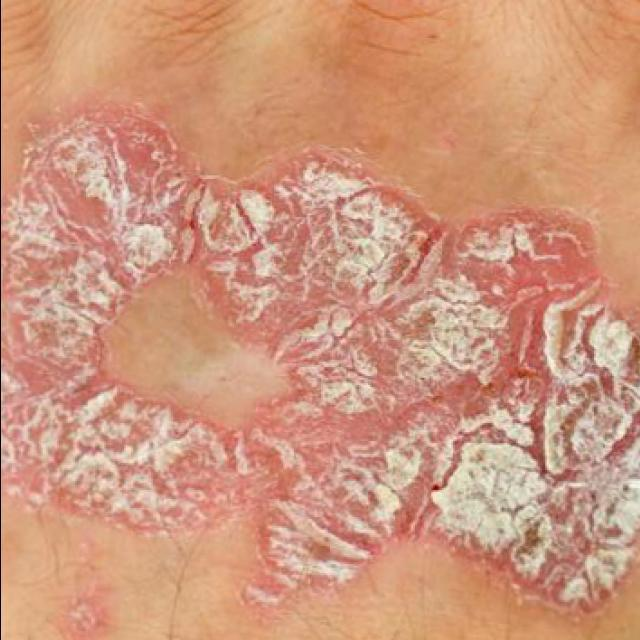Psoriasis: (0, 94, 640, 640)
